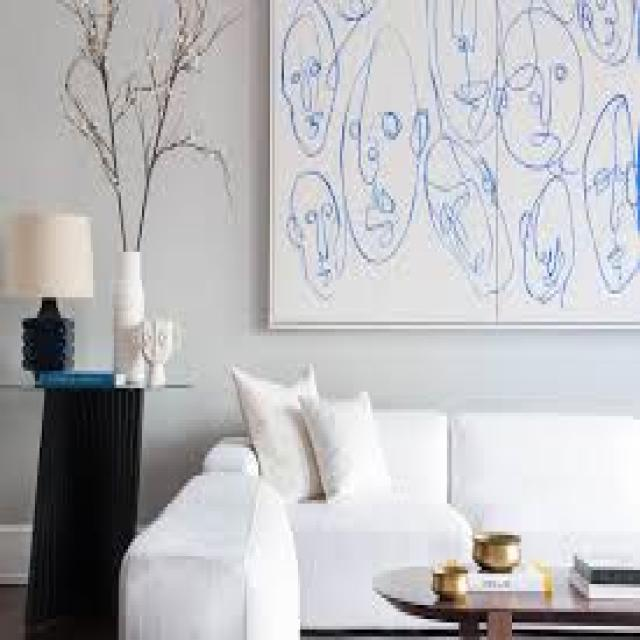Lamp: (3, 196, 100, 371)
Sofa: (90, 401, 640, 640)
Table: (2, 368, 180, 626), (365, 521, 640, 640)
